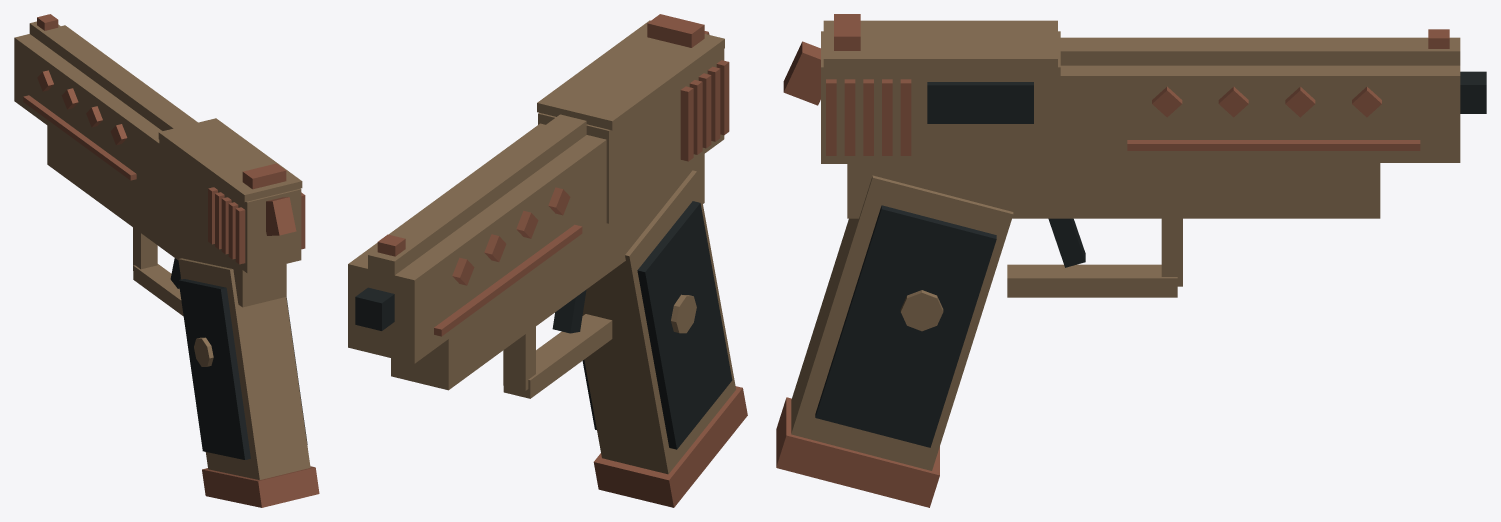
File: pistol_aur.glb
3 renders of one model, left to right at view 1: azimuth 30°, elevation 25°; view 2: azimuth 150°, elevation 25°; view 3: azimuth 270°, elevation 25°, orthographic. The views are drawn at different scales.
Visible parts, largest first — view 1: Pistol, Luciu; view 2: Pistol, Luciu; view 3: Pistol, Luciu.
Part boxes in pixels (left/top/right/bottom): Pistol: left=14, top=14, right=319, bottom=507; Luciu: left=29, top=21, right=302, bottom=366; Pistol: left=348, top=14, right=747, bottom=507; Luciu: left=368, top=20, right=724, bottom=333; Pistol: left=776, top=14, right=1486, bottom=507; Luciu: left=823, top=20, right=1460, bottom=331.
Size of the model in its own units: 0.042 by 0.192 by 0.2668.
